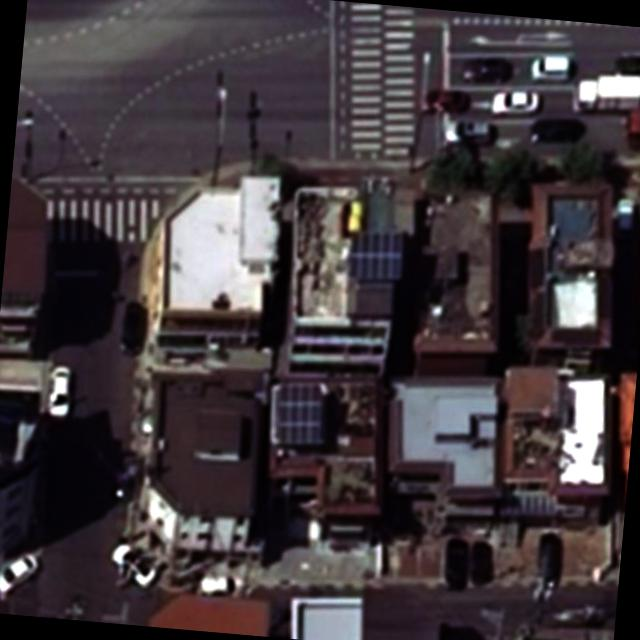solar: (274, 379, 326, 446), (345, 225, 406, 282)
